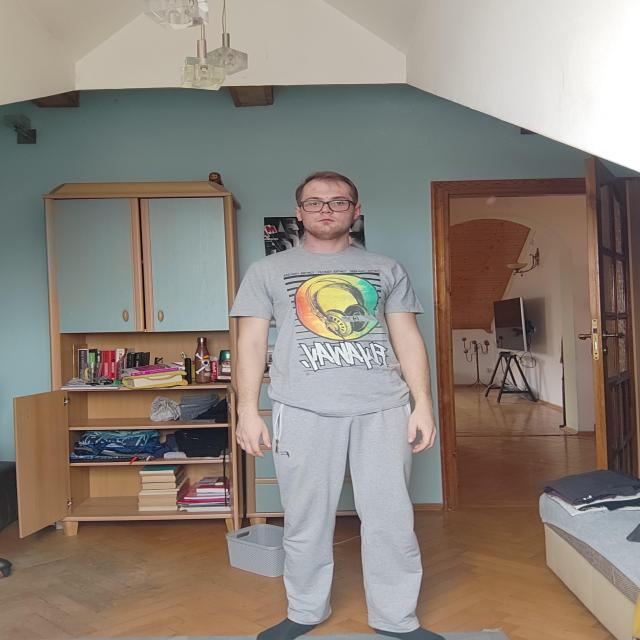Tshirt: (225, 244, 425, 417)
pants: (272, 389, 422, 633)
